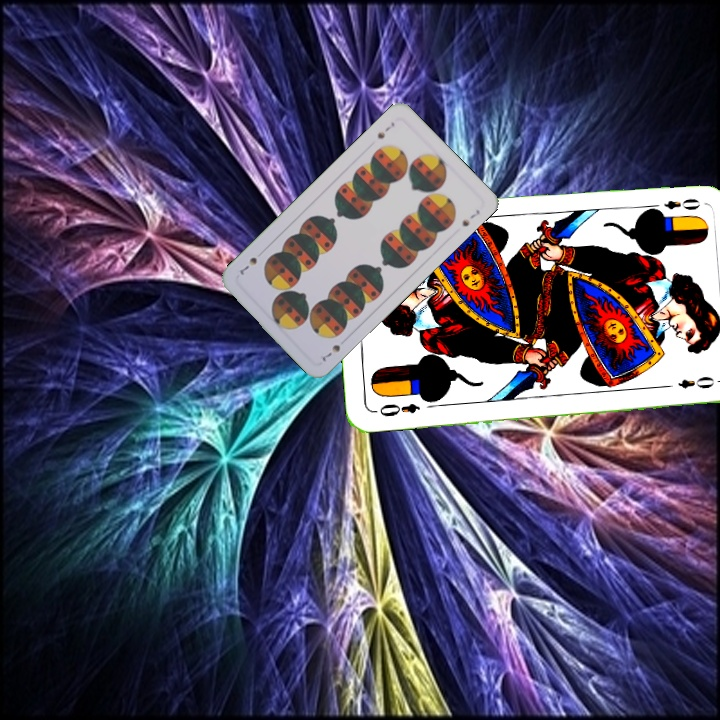EO: (645, 194, 703, 215), (370, 399, 422, 420)
S7: (316, 340, 343, 364), (373, 117, 397, 141)
